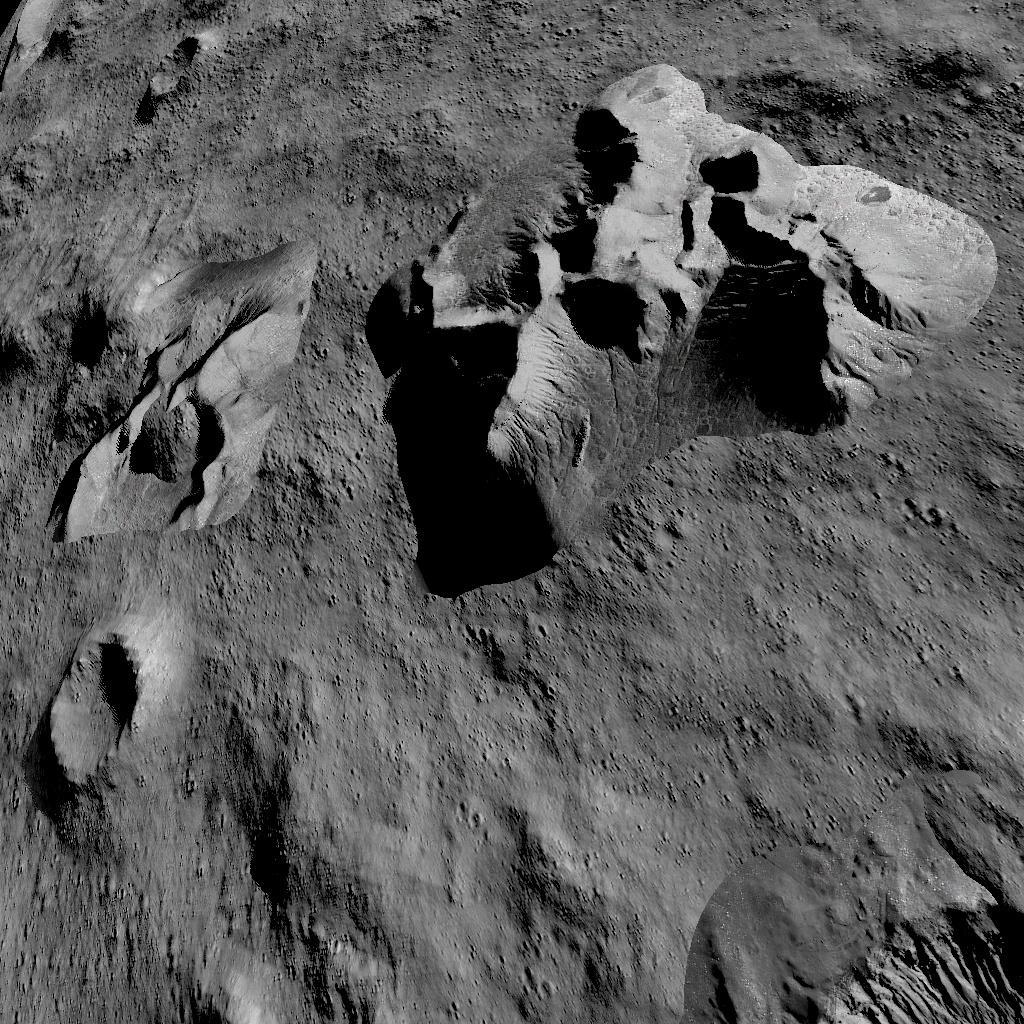Boulders: (341, 48, 993, 600)
Crater: (3, 278, 286, 550), (755, 876, 1024, 1024), (32, 612, 184, 832), (0, 0, 113, 88), (134, 33, 216, 114)
Plan surface: (211, 633, 721, 1024), (748, 618, 1024, 832), (4, 128, 324, 267)
